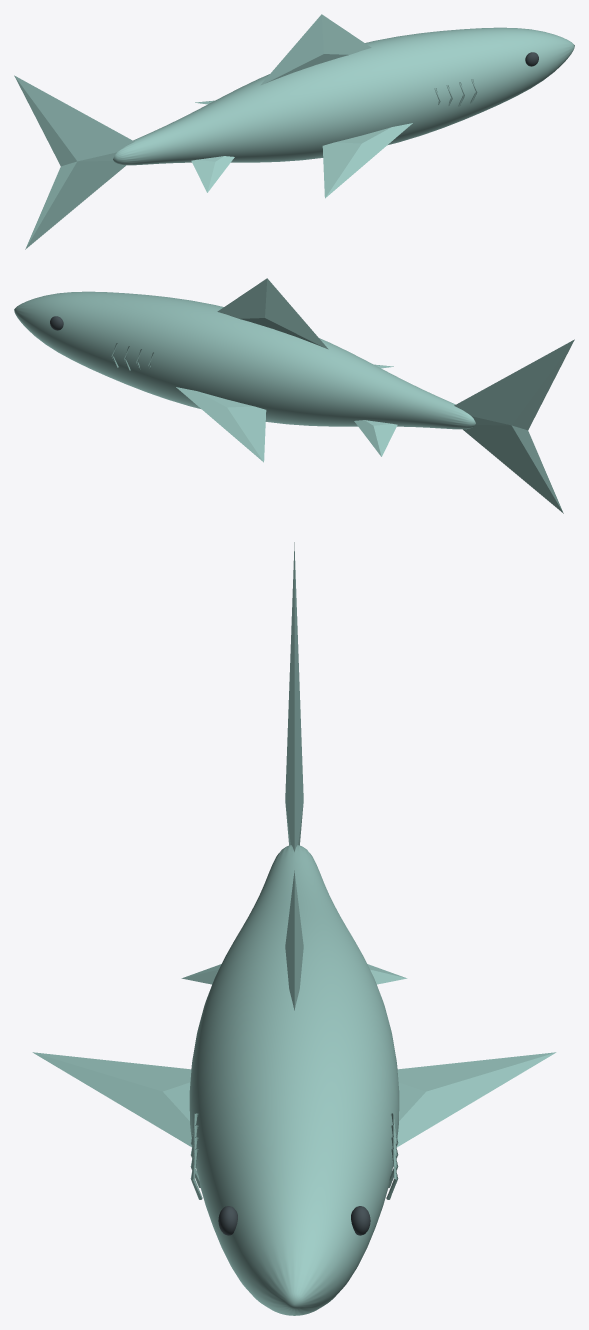
3 renders of one model, top to bottom at view 1: azimuth 30°, elevation 25°; view 2: azimuth 150°, elevation 25°; view 3: azimuth 270°, elevation 25°, orthographic. The views are drawn at different scales.
Parts seen in each view (by area): view 1: Body, Tail, Dorsal, Pectoral, Pelvic; view 2: Body, Tail, Dorsal, Pectoral.001, Pelvic.001; view 3: Body, Pectoral.001, Pectoral, Tail, Dorsal.
Boxes of the visible parts, x1=… form: Body: x1=113, y1=27, x2=574, y2=165; Tail: x1=14, y1=75, x2=134, y2=249; Dorsal: x1=260, y1=14, x2=371, y2=85; Pectoral: x1=322, y1=123, x2=412, y2=198; Pelvic: x1=191, y1=156, x2=234, y2=192; Body: x1=14, y1=291, x2=475, y2=429; Tail: x1=454, y1=339, x2=574, y2=513; Dorsal: x1=217, y1=278, x2=328, y2=349; Pectoral.001: x1=176, y1=387, x2=266, y2=462; Pelvic.001: x1=354, y1=420, x2=397, y2=456; Body: x1=189, y1=845, x2=399, y2=1315; Pectoral.001: x1=396, y1=1052, x2=556, y2=1147; Pectoral: x1=32, y1=1052, x2=191, y2=1147; Tail: x1=285, y1=542, x2=303, y2=851; Dorsal: x1=285, y1=870, x2=303, y2=1010.
Size of the model in its own units: 252 by 76 by 102.
